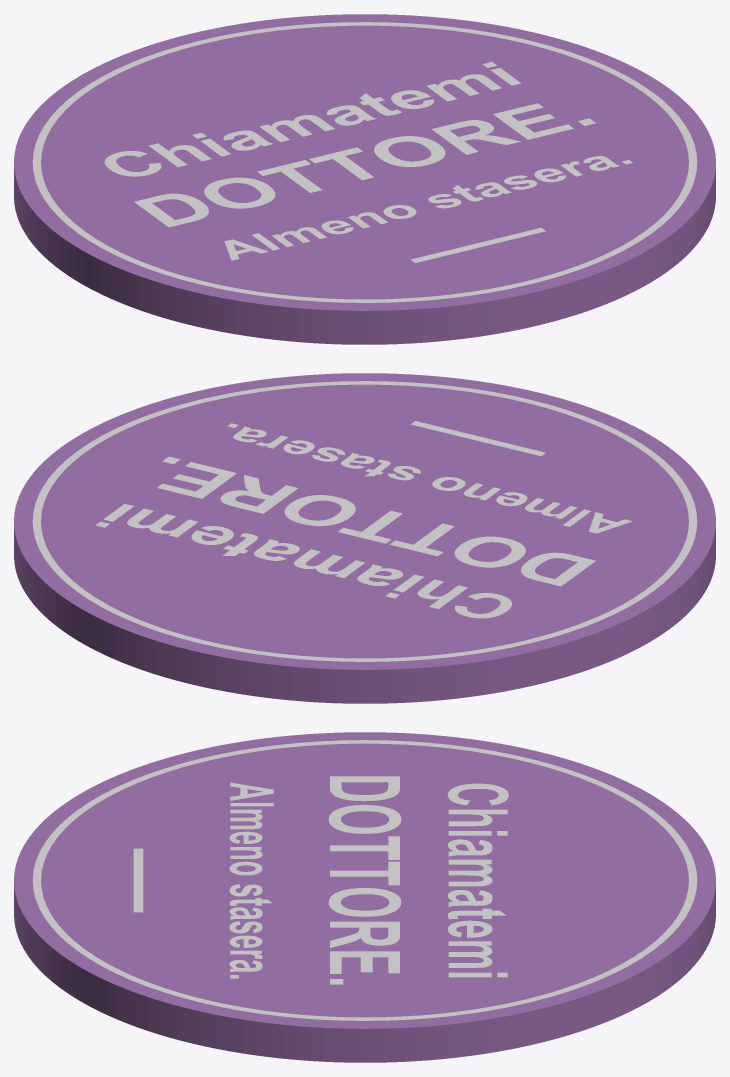
Rendered from sottobicchiere-chiamatemi-dottore.glb.
3 views of the same model, one above another, from view 1: azimuth 30°, elevation 25°; view 2: azimuth 150°, elevation 25°; view 3: azimuth 270°, elevation 25° (orthographic).
Visible parts, largest first — view 1: coaster_base, coaster_ink; view 2: coaster_base, coaster_ink; view 3: coaster_base, coaster_ink.
Boxes of the visible parts, x1,y1,x2,y2 form: coaster_base: (14, 14, 715, 344); coaster_ink: (32, 22, 697, 302); coaster_base: (14, 373, 715, 703); coaster_ink: (32, 381, 697, 661); coaster_base: (14, 732, 715, 1062); coaster_ink: (32, 740, 697, 1020).
Size of the model in its own units: 0.075 by 0.004 by 0.075.
